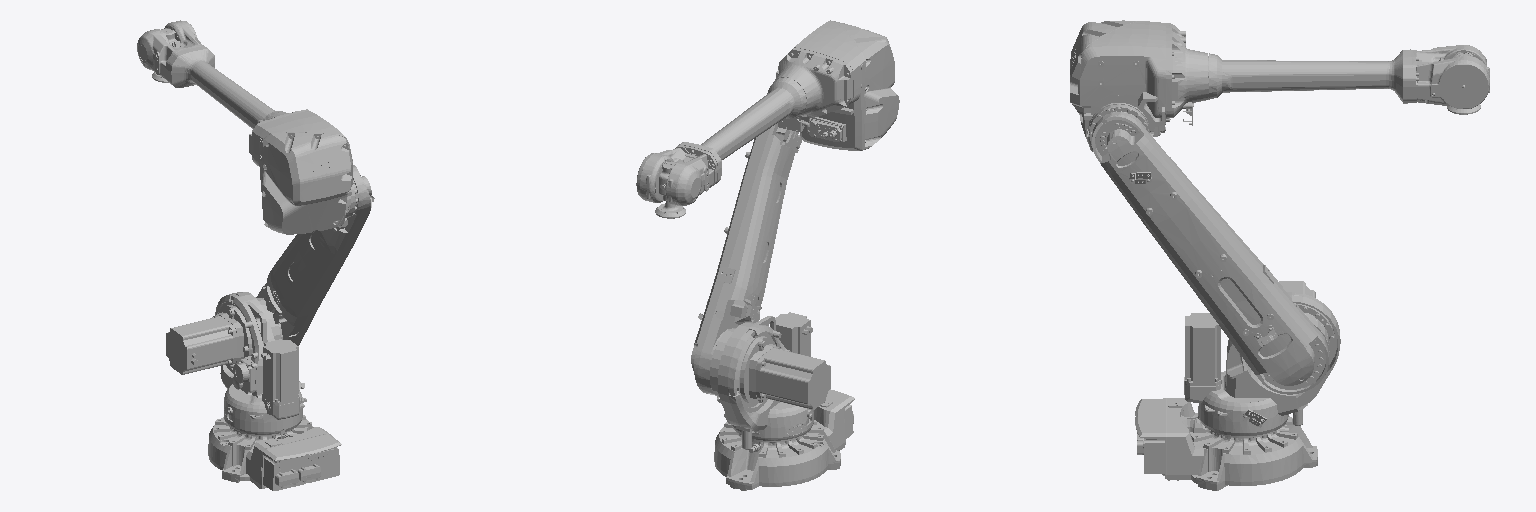
robot.urdf — nirb4600_40_urdf:
<?xml version="1.0" encoding="utf-8"?>
<!-- This URDF was automatically created by SolidWorks to URDF Exporter! Originally created by [author] ([email redacted]) 
     Commit Version: 1.6.0-1-g15f4949  Build Version: 1.6.7594.29634
     For more information, please see http://wiki.ros.org/sw_urdf_exporter -->
<robot
  name="nirb4600_40_urdf">
  <link
    name="base_link">
    <inertial>
      <origin
        xyz="-0.000401552070917752 -0.0911236885967994 0.082401349956146"
        rpy="0 0 0" />
      <mass
        value="30.2641154431706" />
      <inertia
        ixx="0.85892250014232"
        ixy="-0.00417681574526498"
        ixz="2.02687149771848E-05"
        iyy="0.42278420441108"
        iyz="0.057731312023842"
        izz="1.1601929630538" />
    </inertial>
    <visual>
      <origin
        xyz="0 0 0"
        rpy="0 0 0" />
      <geometry>
        <mesh
          filename="package://nirb4600_40_urdf/meshes/visual/base_link.STL" />
      </geometry>
      <material
        name="">
        <color
          rgba="0.752941176470588 0.752941176470588 0.752941176470588 1" />
      </material>
    </visual>
    <collision>
      <origin
        xyz="0 0 0"
        rpy="0 0 0" />
      <geometry>
        <mesh
          filename="package://nirb4600_40_urdf/meshes/visual/base_link.STL" />
      </geometry>
    </collision>
  </link>
  <link
    name="Link1">
    <inertial>
      <origin
        xyz="-0.024807107628731 0.0776629688579943 0.400092919013336"
        rpy="0 0 0" />
      <mass
        value="42.2512643667046" />
      <inertia
        ixx="1.43240606436792"
        ixy="0.0963146953855848"
        ixz="0.103836667071636"
        iyy="1.10581505251293"
        iyz="-0.293764571503675"
        izz="1.14918481679273" />
    </inertial>
    <visual>
      <origin
        xyz="0 0 0"
        rpy="0 0 0" />
      <geometry>
        <mesh
          filename="package://nirb4600_40_urdf/meshes/visual/Link1.STL" />
      </geometry>
      <material
        name="">
        <color
          rgba="0.752941176470588 0.752941176470588 0.752941176470588 1" />
      </material>
    </visual>
    <collision>
      <origin
        xyz="0 0 0"
        rpy="0 0 0" />
      <geometry>
        <mesh
          filename="package://nirb4600_40_urdf/meshes/visual/Link1.STL" />
      </geometry>
    </collision>
  </link>
  <joint
    name="joint1"
    type="revolute">
    <origin
      xyz="0 0 0"
      rpy="0 0 0" />
    <parent
      link="base_link" />
    <child
      link="Link1" />
    <axis
      xyz="0 0 -1" />
    <limit
      lower="-3.14"
      upper="3.14"
      effort="100"
      velocity="1" />
  </joint>
  <link
    name="Link2">
    <inertial>
      <origin
        xyz="-0.281840078336342 0.39781454111129 0.170069106813736"
        rpy="0 0 0" />
      <mass
        value="34.3067168121155" />
      <inertia
        ixx="2.55506426879015"
        ixy="1.67036570727235"
        ixz="0.0624659888843496"
        iyy="1.38260506449306"
        iyz="-0.0880809280926427"
        izz="3.83471176479517" />
    </inertial>
    <visual>
      <origin
        xyz="0 0 0"
        rpy="0 0 0" />
      <geometry>
        <mesh
          filename="package://nirb4600_40_urdf/meshes/visual/Link2.STL" />
      </geometry>
      <material
        name="">
        <color
          rgba="0.752941176470588 0.752941176470588 0.752941176470588 1" />
      </material>
    </visual>
    <collision>
      <origin
        xyz="0 0 0"
        rpy="0 0 0" />
      <geometry>
        <mesh
          filename="package://nirb4600_40_urdf/meshes/visual/Link2.STL" />
      </geometry>
    </collision>
  </link>
  <joint
    name="joint2"
    type="revolute">
    <origin
      xyz="0 0.175 0.495"
      rpy="1.5707963267949 0 1.5707963267949" />
    <parent
      link="Link1" />
    <child
      link="Link2" />
    <axis
      xyz="0 0 -1" />
    <limit
      lower="-1.57"
      upper="2.61"
      effort="100"
      velocity="1" />
  </joint>
  <link
    name="Link3">
    <inertial>
      <origin
        xyz="0.0394896150500489 0.119612171511015 -0.0493820916545228"
        rpy="0 0 0" />
      <mass
        value="50.8444734408674" />
      <inertia
        ixx="1.12797955697909"
        ixy="-0.114867836776946"
        ixz="-0.0751946583408964"
        iyy="1.1308632978377"
        iyz="0.0113709255127396"
        izz="1.37501946023885" />
    </inertial>
    <visual>
      <origin
        xyz="0 0 0"
        rpy="0 0 0" />
      <geometry>
        <mesh
          filename="package://nirb4600_40_urdf/meshes/visual/Link3.STL" />
      </geometry>
      <material
        name="">
        <color
          rgba="0.752941176470588 0.752941176470588 0.752941176470588 1" />
      </material>
    </visual>
    <collision>
      <origin
        xyz="0 0 0"
        rpy="0 0 0" />
      <geometry>
        <mesh
          filename="package://nirb4600_40_urdf/meshes/visual/Link3.STL" />
      </geometry>
    </collision>
  </link>
  <joint
    name="joint3"
    type="revolute">
    <origin
      xyz="-0.633136829064489 0.893399549855583 0"
      rpy="0 0 0" />
    <parent
      link="Link2" />
    <child
      link="Link3" />
    <axis
      xyz="0 0 1" />
    <limit
      lower="-3.14"
      upper="1.3"
      effort="100"
      velocity="1" />
  </joint>
  <link
    name="Link4">
    <inertial>
      <origin
        xyz="-0.00227018840661741 -0.00167349538403638 0.355369253266542"
        rpy="0 0 0" />
      <mass
        value="13.9277684882343" />
      <inertia
        ixx="1.34532870458299"
        ixy="1.94210039537778E-05"
        ixz="-0.00634672101255237"
        iyy="1.32805509180351"
        iyz="-0.00900910156581978"
        izz="0.0573719246889649" />
    </inertial>
    <visual>
      <origin
        xyz="0 0 0"
        rpy="0 0 0" />
      <geometry>
        <mesh
          filename="package://nirb4600_40_urdf/meshes/visual/Link4.STL" />
      </geometry>
      <material
        name="">
        <color
          rgba="0.752941176470588 0.752941176470588 0.752941176470588 1" />
      </material>
    </visual>
    <collision>
      <origin
        xyz="0 0 0"
        rpy="0 0 0" />
      <geometry>
        <mesh
          filename="package://nirb4600_40_urdf/meshes/visual/Link4.STL" />
      </geometry>
    </collision>
  </link>
  <joint
    name="joint4"
    type="revolute">
    <origin
      xyz="1.26843284063973 0.186019162417834 0"
      rpy="-1.5707963267949 0 1.57947813474217" />
    <parent
      link="Link3" />
    <child
      link="Link4" />
    <axis
      xyz="0 0 1" />
    <limit
      lower="-6.97"
      upper="6.97"
      effort="100"
      velocity="1" />
  </joint>
  <link
    name="Link5">
    <inertial>
      <origin
        xyz="0.00237574093749604 -0.00436665342692508 -0.000222064434217462"
        rpy="0 0 0" />
      <mass
        value="1.21227831392543" />
      <inertia
        ixx="0.00286916295232664"
        ixy="-1.25901271544486E-05"
        ixz="-5.36234279426188E-07"
        iyy="0.00263166248529629"
        iyz="3.79126477865834E-08"
        izz="0.00286330438496267" />
    </inertial>
    <visual>
      <origin
        xyz="0 0 0"
        rpy="0 0 0" />
      <geometry>
        <mesh
          filename="package://nirb4600_40_urdf/meshes/visual/Link5.STL" />
      </geometry>
      <material
        name="">
        <color
          rgba="0.752941176470588 0.752941176470588 0.752941176470588 1" />
      </material>
    </visual>
    <collision>
      <origin
        xyz="0 0 0"
        rpy="0 0 0" />
      <geometry>
        <mesh
          filename="package://nirb4600_40_urdf/meshes/visual/Link5.STL" />
      </geometry>
    </collision>
  </link>
  <joint
    name="joint5"
    type="revolute">
    <origin
      xyz="0 0 0"
      rpy="0 0 0" />
    <parent
      link="Link4" />
    <child
      link="Link5" />
    <axis
      xyz="0 -1 0" />
    <limit
      lower="-2.18"
      upper="2.09"
      effort="100"
      velocity="1" />
  </joint>
  <link
    name="Link6">
    <inertial>
      <origin
        xyz="-0.0574916916077448 5.03621487904675E-05 0.000499182407269316"
        rpy="0 0 0" />
      <mass
        value="0.517167341244586" />
      <inertia
        ixx="0.000434942756306536"
        ixy="1.79241784414791E-06"
        ixz="1.54565646964646E-05"
        iyy="0.00221585836062058"
        iyz="-1.35152149583328E-08"
        izz="0.00221447370512909" />
    </inertial>
    <visual>
      <origin
        xyz="0 0 0"
        rpy="0 0 0" />
      <geometry>
        <mesh
          filename="package://nirb4600_40_urdf/meshes/visual/Link6.STL" />
      </geometry>
      <material
        name="">
        <color
          rgba="0.752941176470588 0.752941176470588 0.752941176470588 1" />
      </material>
    </visual>
    <collision>
      <origin
        xyz="0 0 0"
        rpy="0 0 0" />
      <geometry>
        <mesh
          filename="package://nirb4600_40_urdf/meshes/visual/Link6.STL" />
      </geometry>
    </collision>
  </link>
  <joint
    name="joint6"
    type="revolute">
    <origin
      xyz="0 0 0"
      rpy="0 0 0" />
    <parent
      link="Link5" />
    <child
      link="Link6" />
    <axis
      xyz="0.99996 0 -0.0086817" />
    <limit
      lower="-6.97"
      upper="6.97"
      effort="100"
      velocity="1" />
  </joint>
</robot>

--- What the picture shows (computed from the rendered views, not written in the file) ---
The picture shows the robot from 3 angles, left to right: view 1: azimuth 30°, elevation 25°; view 2: azimuth 150°, elevation 25°; view 3: azimuth 270°, elevation 25°; orthographic projection.
Robot: nirb4600_40_urdf — 7 links, 6 joints (6 revolute); root link base_link; default pose: every joint at zero.
Visible links, largest first — view 1: Link1, Link3, Link2, base_link, Link4; view 2: Link1, Link3, Link2, base_link, Link4; view 3: Link2, Link3, Link4, base_link, Link1.
Boxes of the visible links, x1,y1,x2,y2 form: Link1: [166, 292, 306, 438]; Link3: [249, 109, 357, 234]; Link2: [256, 165, 374, 345]; base_link: [208, 415, 341, 490]; Link4: [137, 20, 282, 128]; Link1: [710, 312, 830, 449]; Link3: [775, 20, 899, 150]; Link2: [691, 123, 801, 395]; base_link: [714, 389, 854, 490]; Link4: [636, 77, 806, 205]; Link2: [1092, 112, 1328, 394]; Link3: [1070, 20, 1208, 151]; Link4: [1209, 45, 1489, 108]; base_link: [1135, 398, 1317, 490]; Link1: [1184, 281, 1340, 440].
Bounding box of the posed robot: 0.6322 × 1.55 × 1.72 m (x, y, z).
7 mesh visuals loaded from 7 distinct referenced files (7 binary STL).
